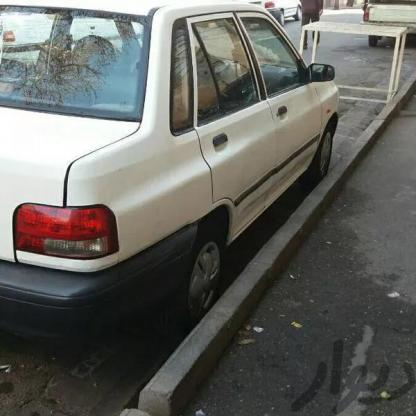Car: (0, 0, 343, 349), (0, 7, 145, 69), (341, 0, 416, 40), (224, 0, 316, 28)
